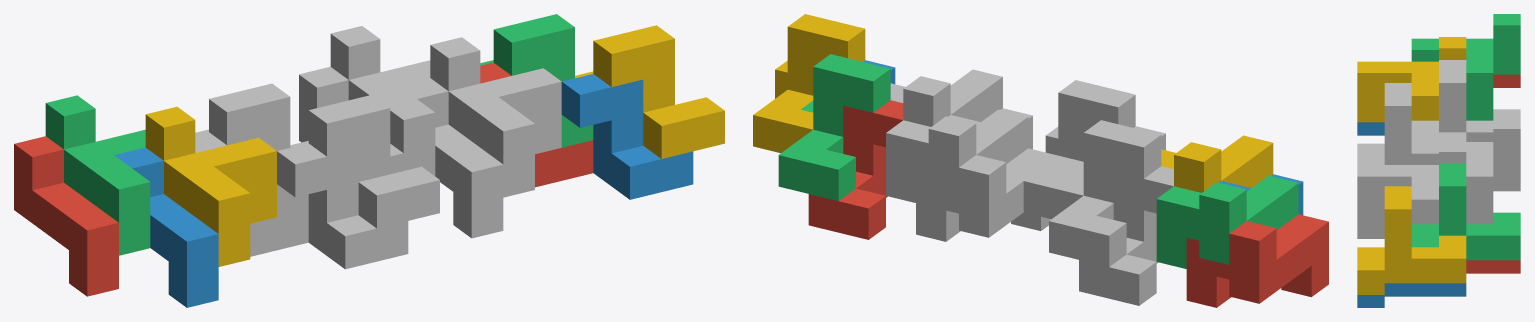
File: tiling.obj
3 renders of one model, left to right at view 1: azimuth 30°, elevation 25°; view 2: azimuth 150°, elevation 25°; view 3: azimuth 270°, elevation 25°, orthographic. The views are drawn at different scales.
Visible parts, largest first — view 1: copy_1_domain_8, copy_1_domain_4, copy_1_domain_1, copy_2_domain_4, copy_2_domain_8, copy_2_domain_6, copy_2_domain_2, copy_1_domain_3, copy_1_domain_7, copy_1_domain_2, copy_1_domain_6, copy_2_domain_7 (+4 smaller); view 2: copy_1_domain_1, copy_2_domain_3, copy_2_domain_7, copy_1_domain_3, copy_1_domain_7, copy_1_domain_5, copy_2_domain_8, copy_2_domain_4, copy_2_domain_1, copy_2_domain_5, copy_1_domain_4, copy_1_domain_8; view 3: copy_2_domain_8, copy_2_domain_7, copy_1_domain_3, copy_1_domain_7, copy_1_domain_4, copy_1_domain_8, copy_2_domain_3, copy_2_domain_4, copy_2_domain_6, copy_2_domain_5, copy_1_domain_1, copy_1_domain_2 (+2 smaller).
Part boxes in pixels (x1,y1,x2,y2): copy_1_domain_8: (430,37,561,197); copy_1_domain_4: (145,106,276,266); copy_1_domain_1: (14,136,118,296); copy_2_domain_4: (290,95,439,228); copy_2_domain_8: (575,25,724,158); copy_2_domain_6: (561,74,693,199); copy_2_domain_2: (277,143,408,269); copy_1_domain_3: (45,95,150,255); copy_1_domain_7: (330,26,435,175); copy_1_domain_2: (114,147,218,307); copy_1_domain_6: (399,78,503,238); copy_2_domain_7: (480,14,593,147); copy_1_domain_1: (1186,214,1328,307); copy_2_domain_3: (1049,120,1161,266); copy_2_domain_7: (778,54,890,200); copy_1_domain_3: (1156,175,1298,268); copy_1_domain_7: (886,109,1028,202); copy_1_domain_5: (916,148,1057,241); copy_2_domain_8: (753,14,865,153); copy_2_domain_4: (1023,80,1135,219); copy_2_domain_1: (1079,166,1173,305); copy_2_domain_5: (808,100,903,239); copy_1_domain_4: (1161,135,1273,192); copy_1_domain_8: (890,69,1002,126); copy_2_domain_8: (1357,186,1466,294); copy_2_domain_7: (1411,163,1520,260); copy_1_domain_3: (1411,14,1520,120); copy_1_domain_7: (1411,117,1520,224); copy_1_domain_4: (1357,37,1466,122); copy_1_domain_8: (1357,140,1466,225); copy_2_domain_3: (1411,60,1520,141); copy_2_domain_4: (1357,83,1466,164); copy_2_domain_6: (1357,283,1466,307); copy_2_domain_5: (1466,260,1520,273); copy_1_domain_1: (1493,74,1520,87); copy_1_domain_2: (1357,122,1384,135).
Size of the model in its own units: 19 by 4 by 6.
